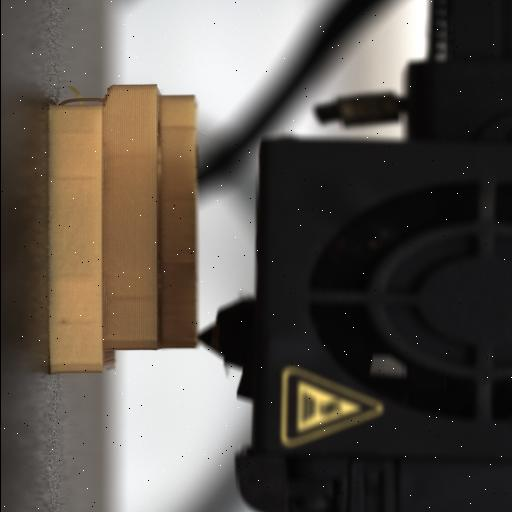layer_shift: (90, 86, 120, 374)
